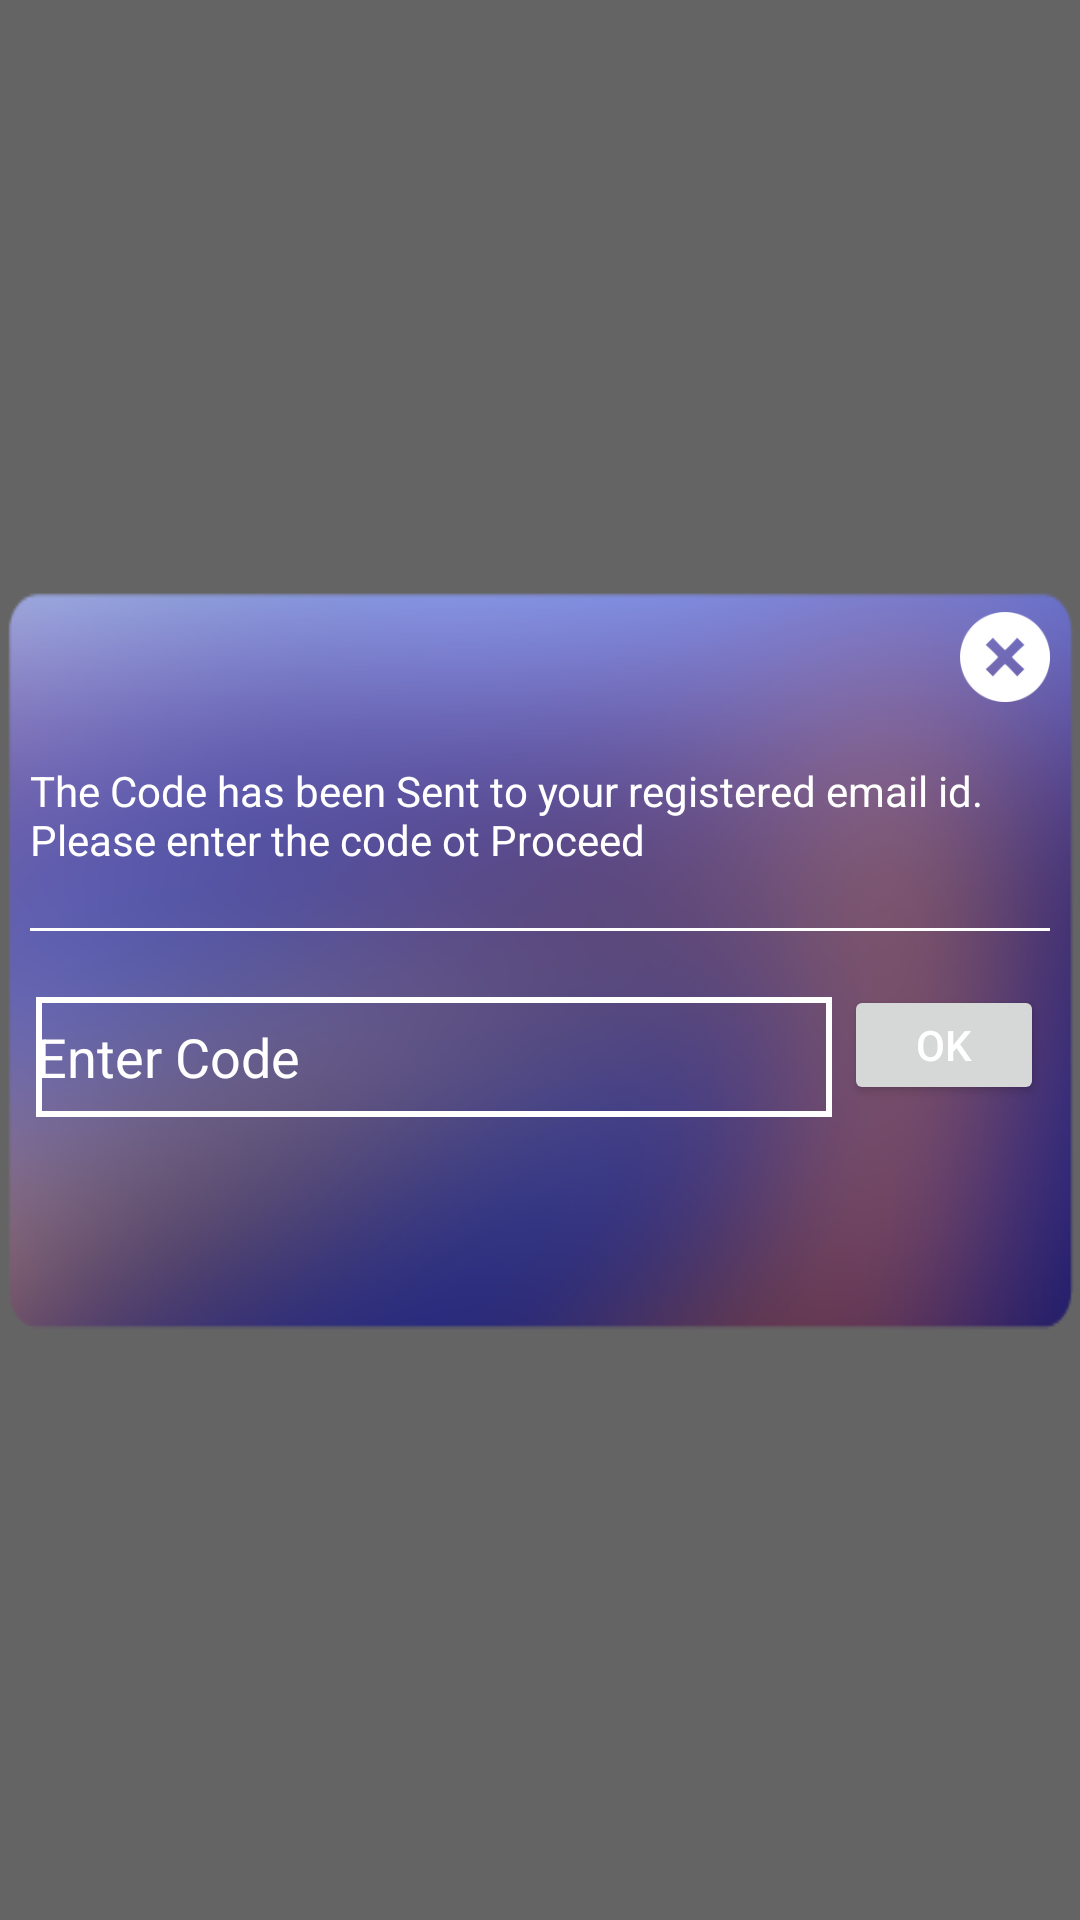

Screen size 1080px×1920px. Icon name, then its box in pixels as (x1, y1, x2, y2):
cross: (960, 612, 1050, 702)
